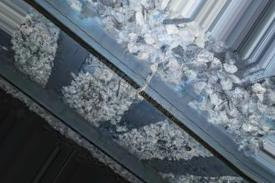tracks_fault: (127, 49, 167, 110)
